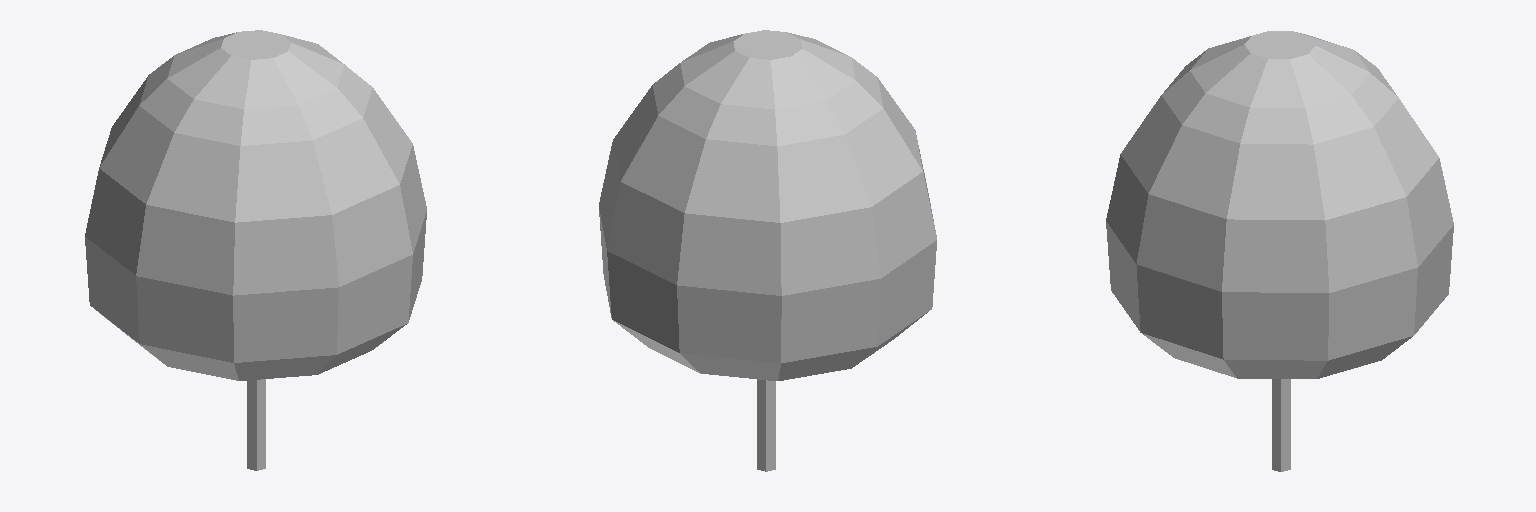
File: Tree_z_Icon_3.obj
3 renders of one model, left to right at view 1: azimuth 30°, elevation 25°; view 2: azimuth 150°, elevation 25°; view 3: azimuth 270°, elevation 25°, orthographic.
Parts seen in each view (by area): view 1: Mesh3 Model, Mesh2 Group1 Model; view 2: Mesh3 Model, Mesh2 Group1 Model; view 3: Mesh3 Model, Mesh2 Group1 Model.
Part boxes in pixels (bbox=[...]): Mesh3 Model: bbox=[85, 30, 426, 380]; Mesh2 Group1 Model: bbox=[247, 379, 265, 470]; Mesh3 Model: bbox=[599, 30, 936, 380]; Mesh2 Group1 Model: bbox=[757, 379, 775, 471]; Mesh3 Model: bbox=[1106, 31, 1453, 378]; Mesh2 Group1 Model: bbox=[1272, 379, 1290, 471].
Bounding box in the file's own units: 151 × 210 × 157.